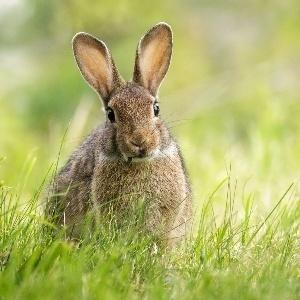rabbit: (45, 22, 195, 252)
